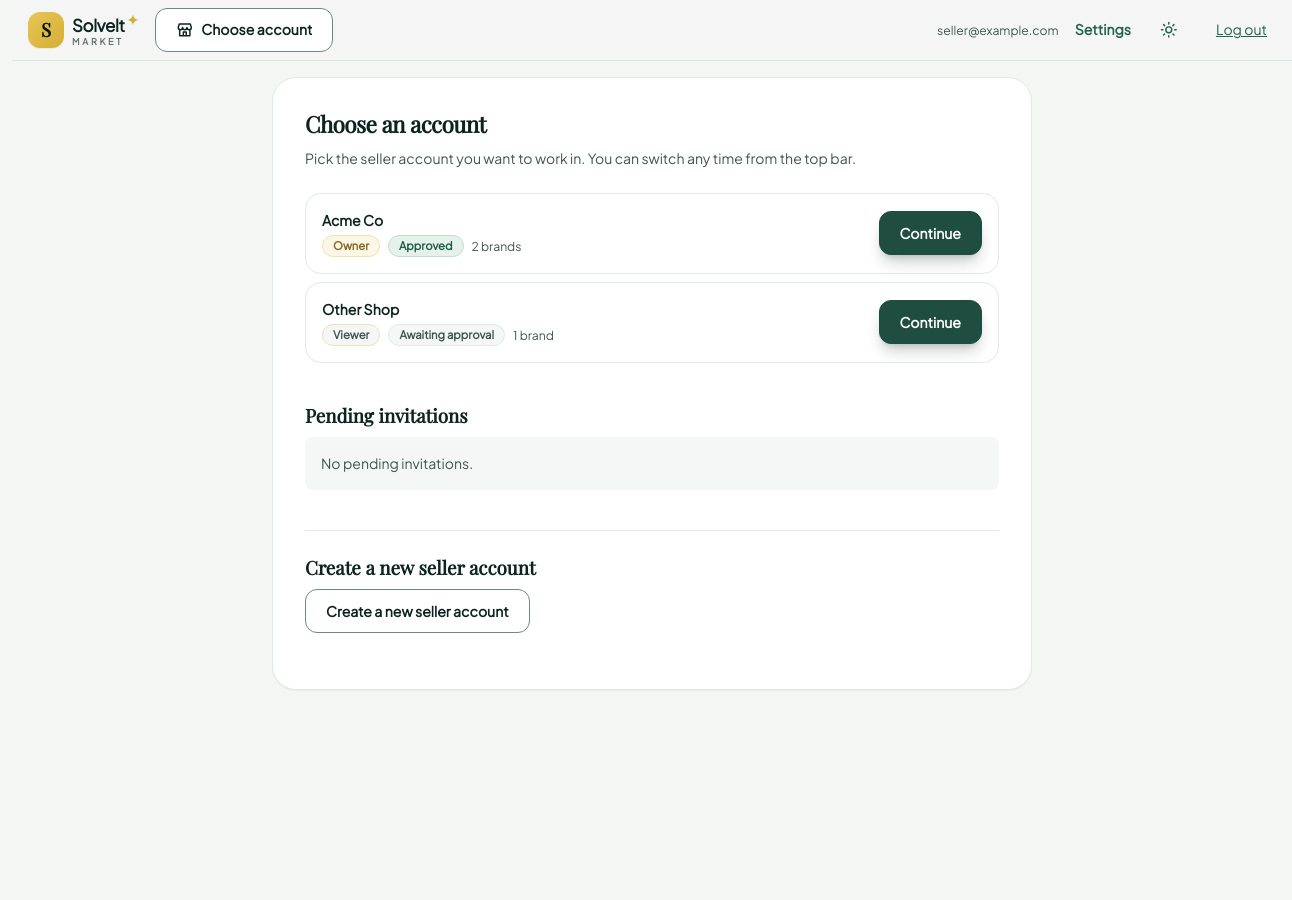
Test: account picker after sign-in › several accounts and none active: shows "Choose an account" with roles and status, then switches
Expected: the heading "Choose an account" is shown, [305, 109, 486, 139]
Expected: the text "home page" is not shown
Click the button named "Continue to Other Shop".
click(930, 322)  # box [878, 300, 982, 344]
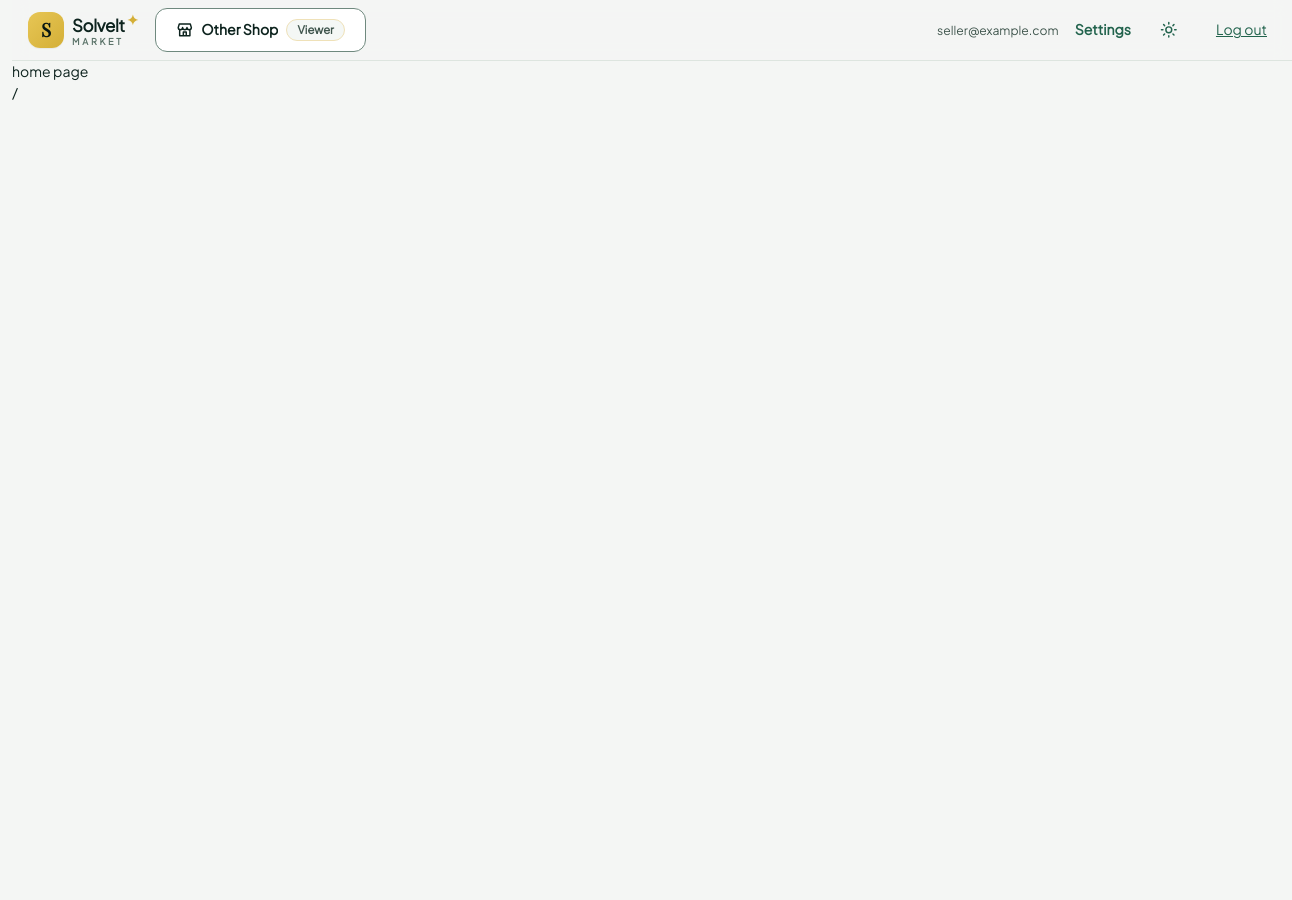
Expected: the text "home page" is shown, [12, 62, 88, 80]
